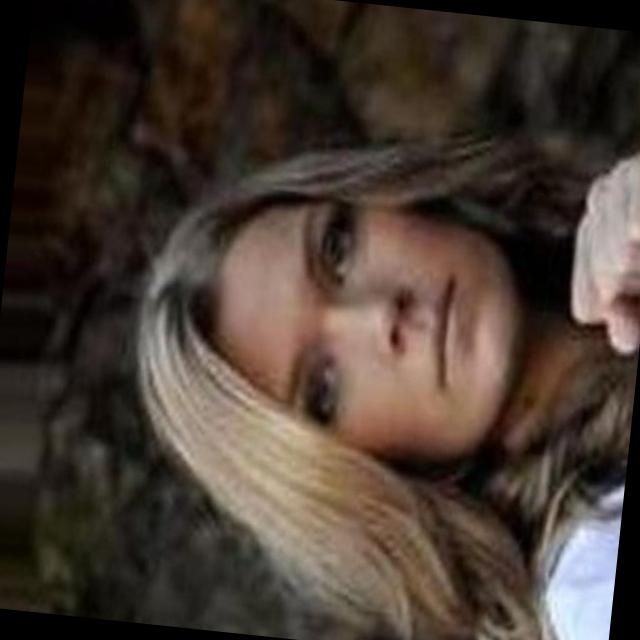bareface: (176, 142, 542, 538)
